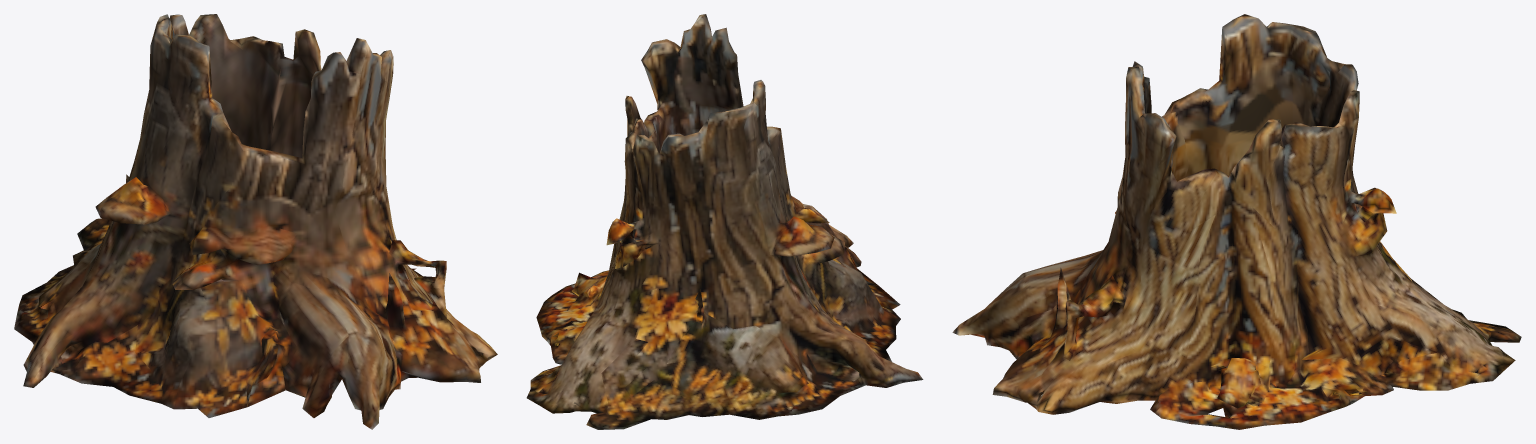
Rendered from FallDecor_BossRoom_HollowStump.fbx.
3 renders of one model, left to right at view 1: azimuth 30°, elevation 25°; view 2: azimuth 150°, elevation 25°; view 3: azimuth 270°, elevation 25°, orthographic. The views are drawn at different scales.
Visible parts, largest first — view 1: FallDecor_BossRoom_HollowStump_Mesh; view 2: FallDecor_BossRoom_HollowStump_Mesh; view 3: FallDecor_BossRoom_HollowStump_Mesh.
Part boxes in pixels (box(x1,y1,x2,y2)): FallDecor_BossRoom_HollowStump_Mesh: box(14, 14, 497, 429); FallDecor_BossRoom_HollowStump_Mesh: box(526, 14, 923, 429); FallDecor_BossRoom_HollowStump_Mesh: box(952, 14, 1521, 429).
Size of the model in its own units: 4.99 by 3.58 by 6.
Materials: 1 (1 with a texture image).
